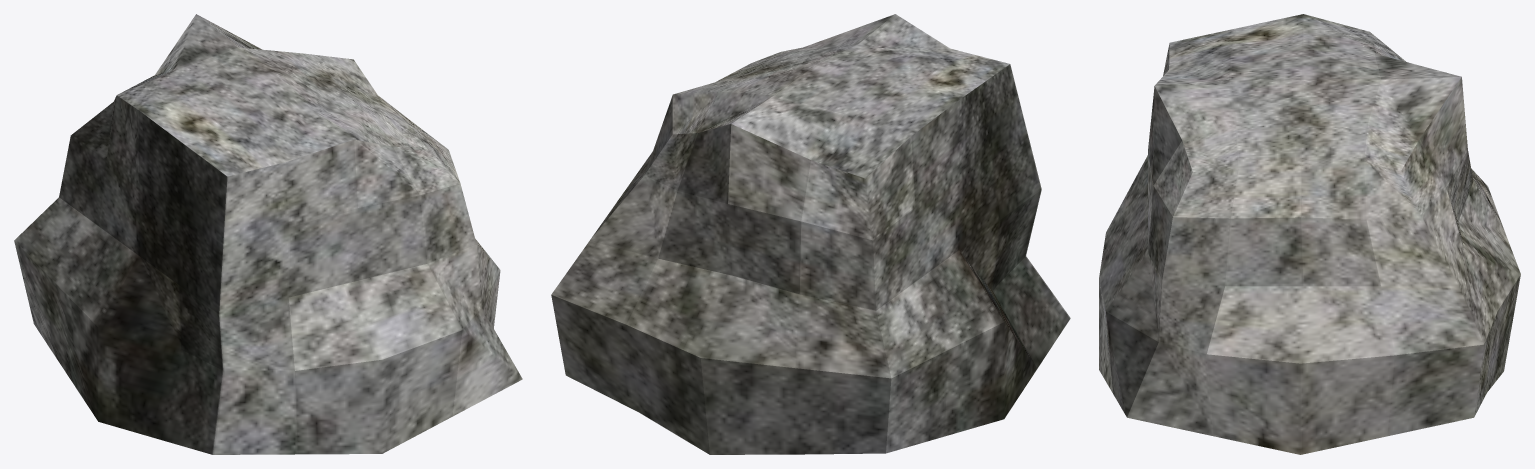
Rendered from Stone.glb.
3 views of the same model, side by side, from view 1: azimuth 30°, elevation 25°; view 2: azimuth 150°, elevation 25°; view 3: azimuth 270°, elevation 25° (orthographic). The views are drawn at different scales.
Visible parts, largest first — view 1: Cube; view 2: Cube; view 3: Cube.
Boxes of the visible parts, bbox=[...] form: Cube: bbox=[14, 14, 522, 454]; Cube: bbox=[551, 14, 1070, 454]; Cube: bbox=[1099, 14, 1520, 454].
Size of the model in its own units: 2.59 by 2.1 by 2.72.
Materials: 1 (1 with a texture image).
